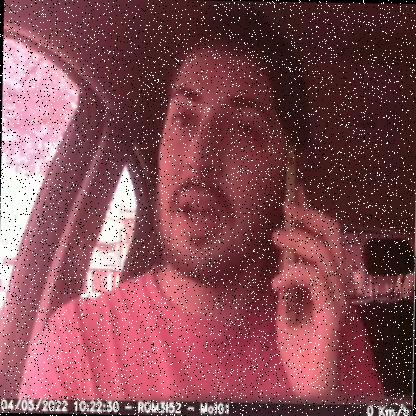phone: (267, 133, 316, 337)
